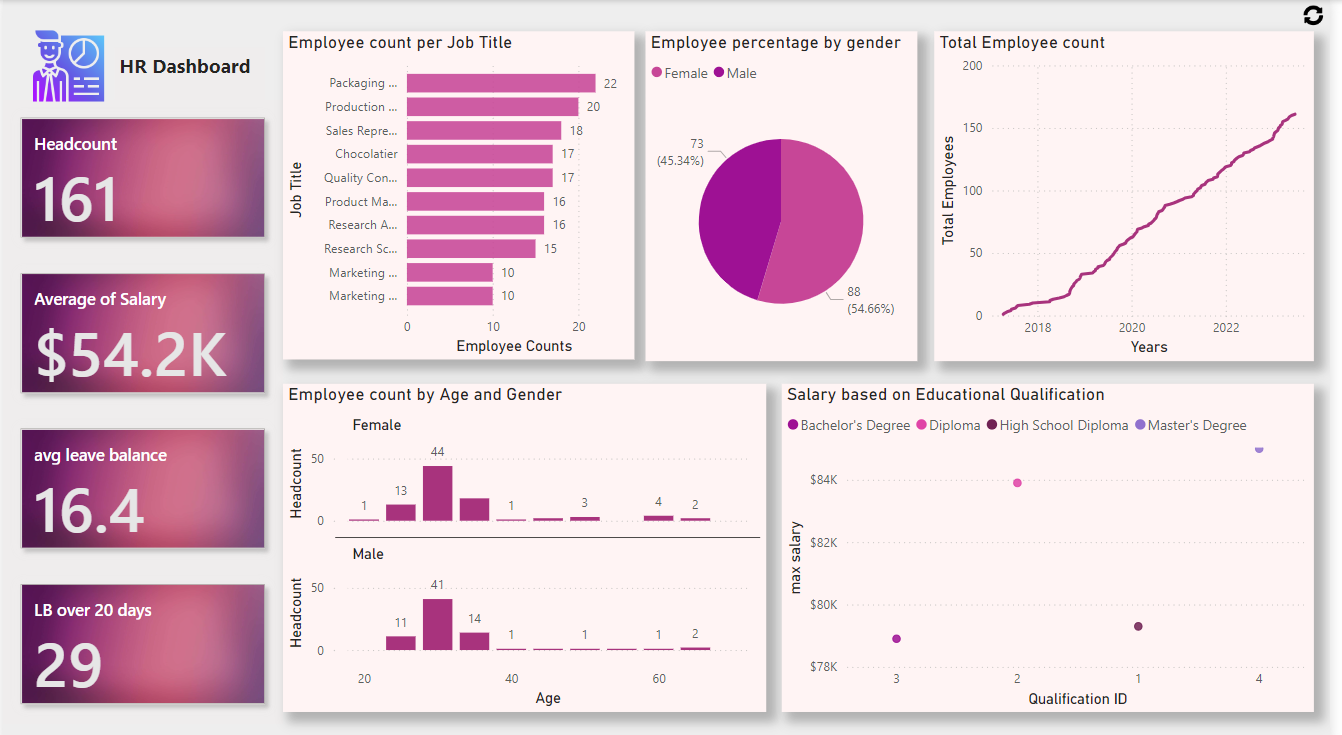

What the dashboard file says about the page in this screenshot:
{"tool":"powerbi","page":{"name":"Page 10","canvas":[1280,720],"ordinal":9},"visuals":[{"type":"cardVisual","fields":{"Data":["data.Headcount","Avg(data.Salary)","QUERY.avg leave balance","QUERY.leave balance over 20 days"]},"box":[0,96.5,270.2,602],"z":0},{"type":"clusteredBarChart","title":"Employee count per Job Title","fields":{"Category":["data.Job Title"],"Y":["data.Headcount"]},"box":[270.3,30.2,338.9,317],"z":1000},{"type":"pieChart","title":"Employee percentage by gender","fields":{"Category":["data.Gender"],"Y":["data.Headcount"]},"box":[620.2,30.2,262.1,318.4],"z":2000},{"type":"clusteredColumnChart","title":"Employee count by Age and Gender","fields":{"Y":["data.Headcount"],"Category":["data.Age (bins)"],"Rows":["data.Gender"]},"box":[270.3,370.5,466.6,317],"z":3000},{"type":"lineChart","title":"Total Employee count","fields":{"Y":["QUERY.TOTAL EMP"],"Category":["data.Date of Join"]},"box":[898.8,30.2,366.4,318.4],"z":4000},{"type":"scatterChart","title":"Salary based on Educational Qualification","fields":{"Y":["data.max salary"],"X":["QUERY.Qualification ID"],"Series":["data.Education Qualification"]},"box":[752,370.5,513.2,317],"z":5000},{"type":"image","box":[1249.9,0,30.2,30.2],"z":6000},{"type":"image","box":[19.3,15.7,88.1,95.3],"z":7000},{"type":"textbox","box":[107.4,45.8,146,50.7],"z":8000}]}

Visuals, with their boxes in screenshot pixels (x1, y1, x2, y2), scaled from the page's 1280x720 canvas onto the 1342x735 screenshot:
cardVisual - data.Headcount x Avg(data.Salary): bbox=(0, 99, 283, 713)
"Employee count per Job Title" clusteredBarChart: bbox=(283, 31, 639, 354)
"Employee percentage by gender" pieChart: bbox=(650, 31, 925, 356)
"Employee count by Age and Gender" clusteredColumnChart: bbox=(283, 378, 773, 702)
"Total Employee count" lineChart: bbox=(942, 31, 1326, 356)
"Salary based on Educational Qualification" scatterChart: bbox=(788, 378, 1326, 702)
image: bbox=(1310, 0, 1341, 31)
image: bbox=(20, 16, 113, 113)
textbox: bbox=(113, 47, 266, 99)
